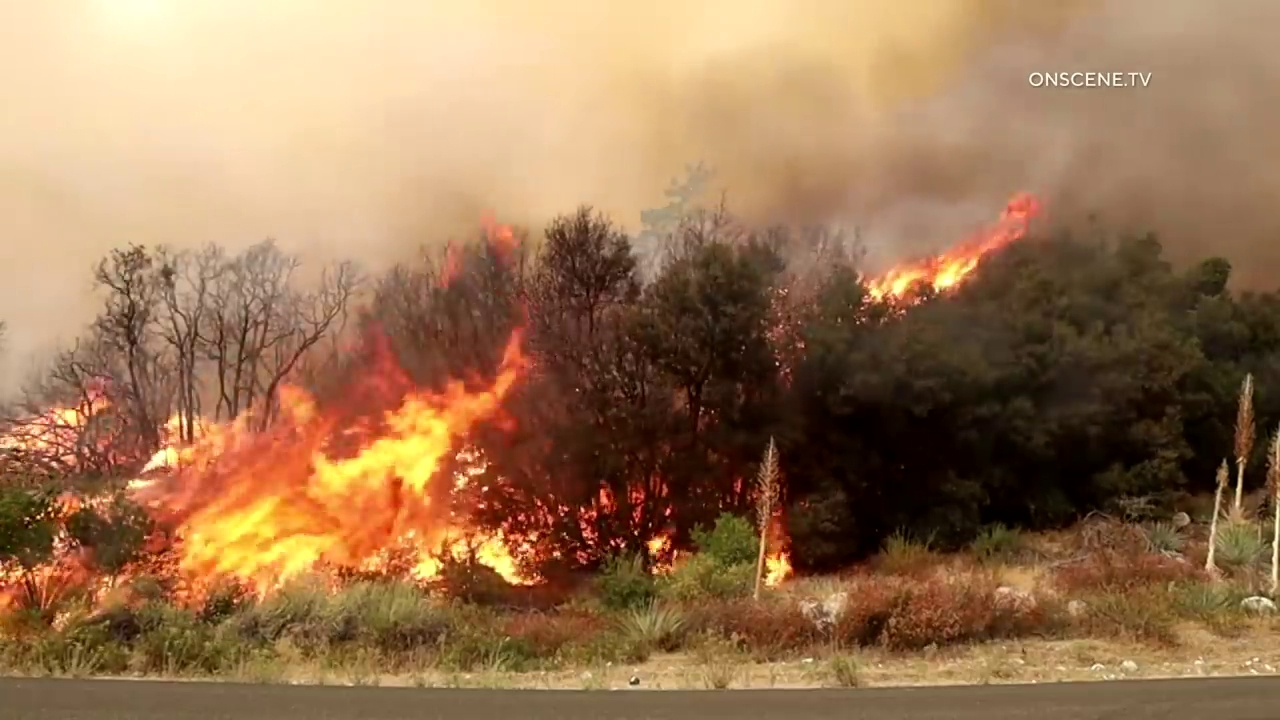forest_fire: (130, 331, 533, 589), (868, 196, 1036, 301), (760, 549, 791, 585)
